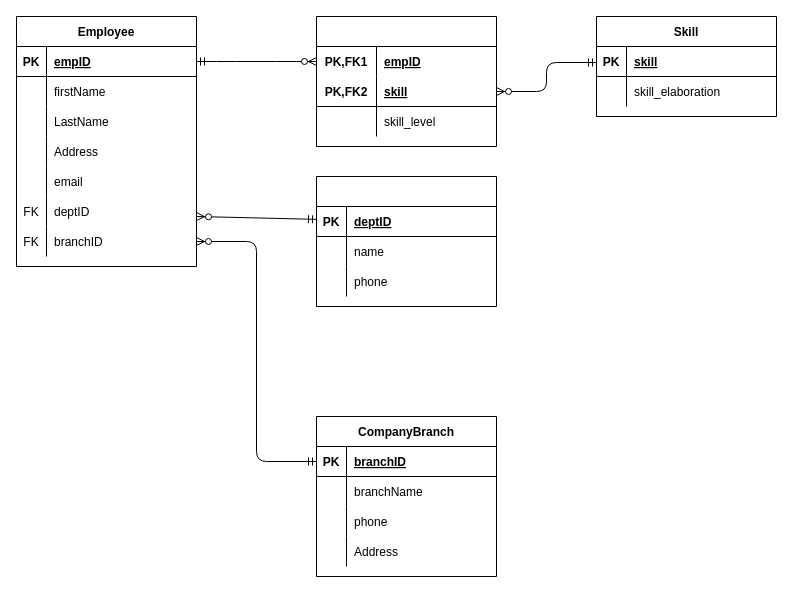
The diagram is 793 pixels wide and 593 high, and some of its shapes have lost their labels. The box of each missing label's shape, as (x1, y1, x2, y2) in pixels:
Department: (316, 176, 496, 306)
EmployeeSkill: (316, 16, 496, 146)
